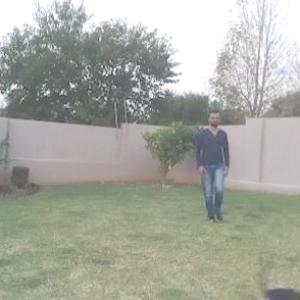follow: (195, 113, 231, 224)
